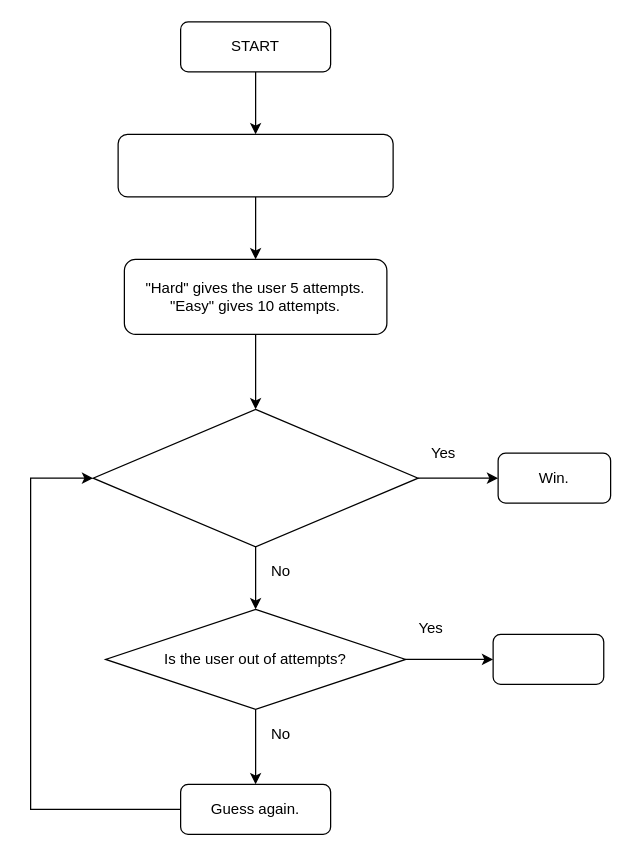
The diagram is 633 pixels wide and 856 high, and some of its shapes have lost their labels. The shapes that lost their labels are listed below. From the top down, each one's centre as x and y in pixels, then its label:
(x=255, y=165): The user should have an "easy" and "hard" game choice.
(x=255, y=477): Did the user guess the correct number?
(x=548, y=658): Lose.
